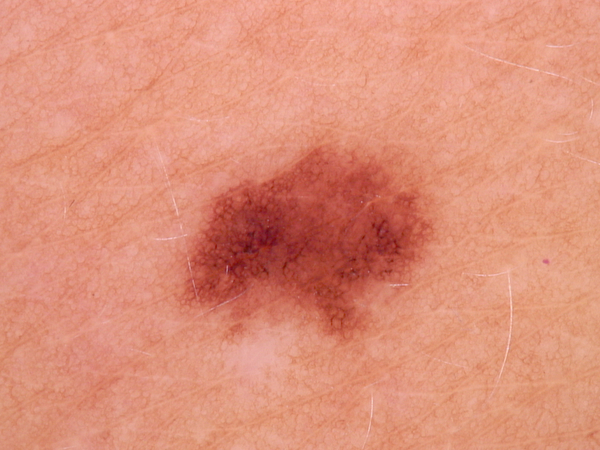Detected Lesion: (168, 134, 448, 351)
